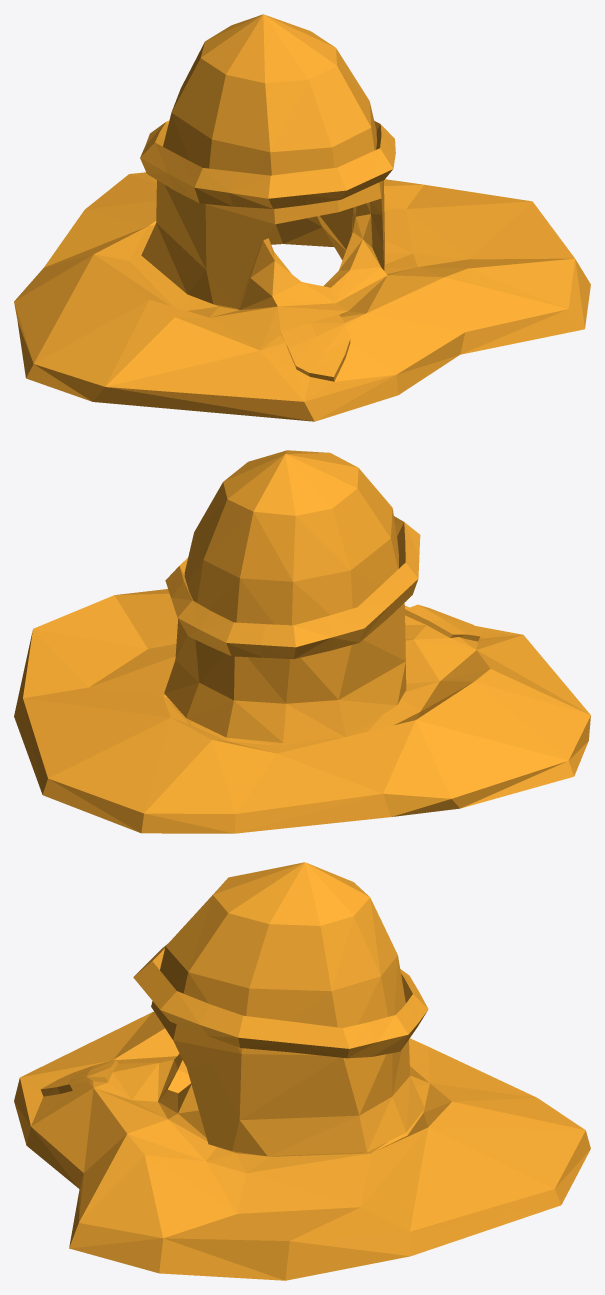
The model's file is SM_Helmet_Basinet_A_Aventail_Placed.fbx.
3 renders of one model, top to bottom at view 1: azimuth 30°, elevation 25°; view 2: azimuth 150°, elevation 25°; view 3: azimuth 270°, elevation 25°, orthographic. The views are drawn at different scales.
Visible parts, largest first — view 1: helmet-basinet-a-aventail-placed; view 2: helmet-basinet-a-aventail-placed; view 3: helmet-basinet-a-aventail-placed.
Part boxes in pixels (left/top/right/bottom): helmet-basinet-a-aventail-placed: left=14, top=14, right=590, bottom=421; helmet-basinet-a-aventail-placed: left=14, top=450, right=590, bottom=833; helmet-basinet-a-aventail-placed: left=14, top=862, right=590, bottom=1280.
Bounding box in the file's own units: 0.6171 × 0.3089 × 0.5678.
